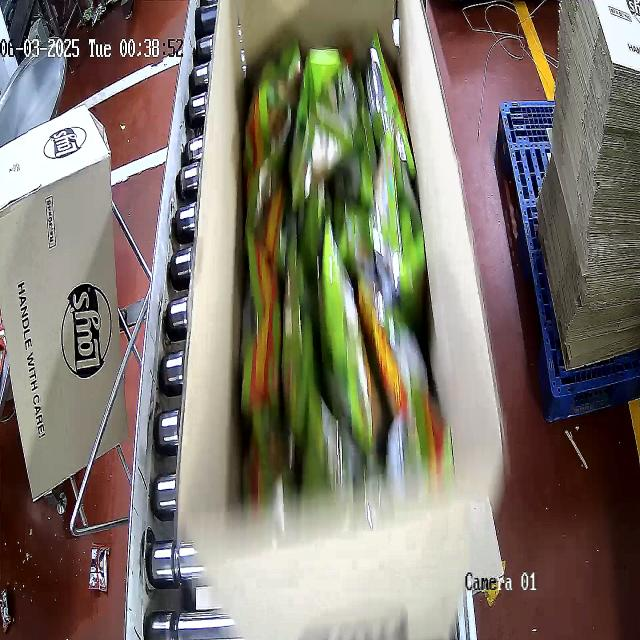YOGURT_HERB: (238, 31, 450, 544)
